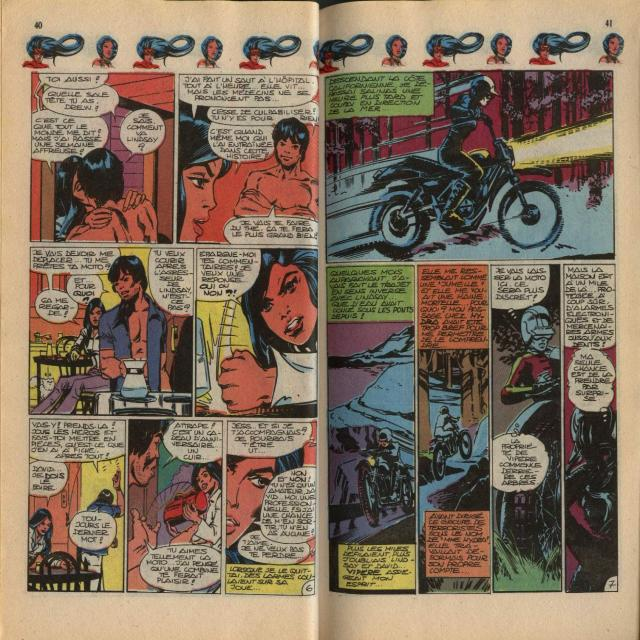comic_panel: (323, 65, 617, 264), (325, 263, 417, 596), (27, 246, 194, 418), (29, 71, 174, 246), (177, 72, 321, 248), (416, 263, 492, 596), (490, 262, 564, 595), (194, 245, 319, 421), (562, 262, 621, 594), (125, 417, 223, 597), (28, 418, 126, 592), (225, 420, 317, 596)
